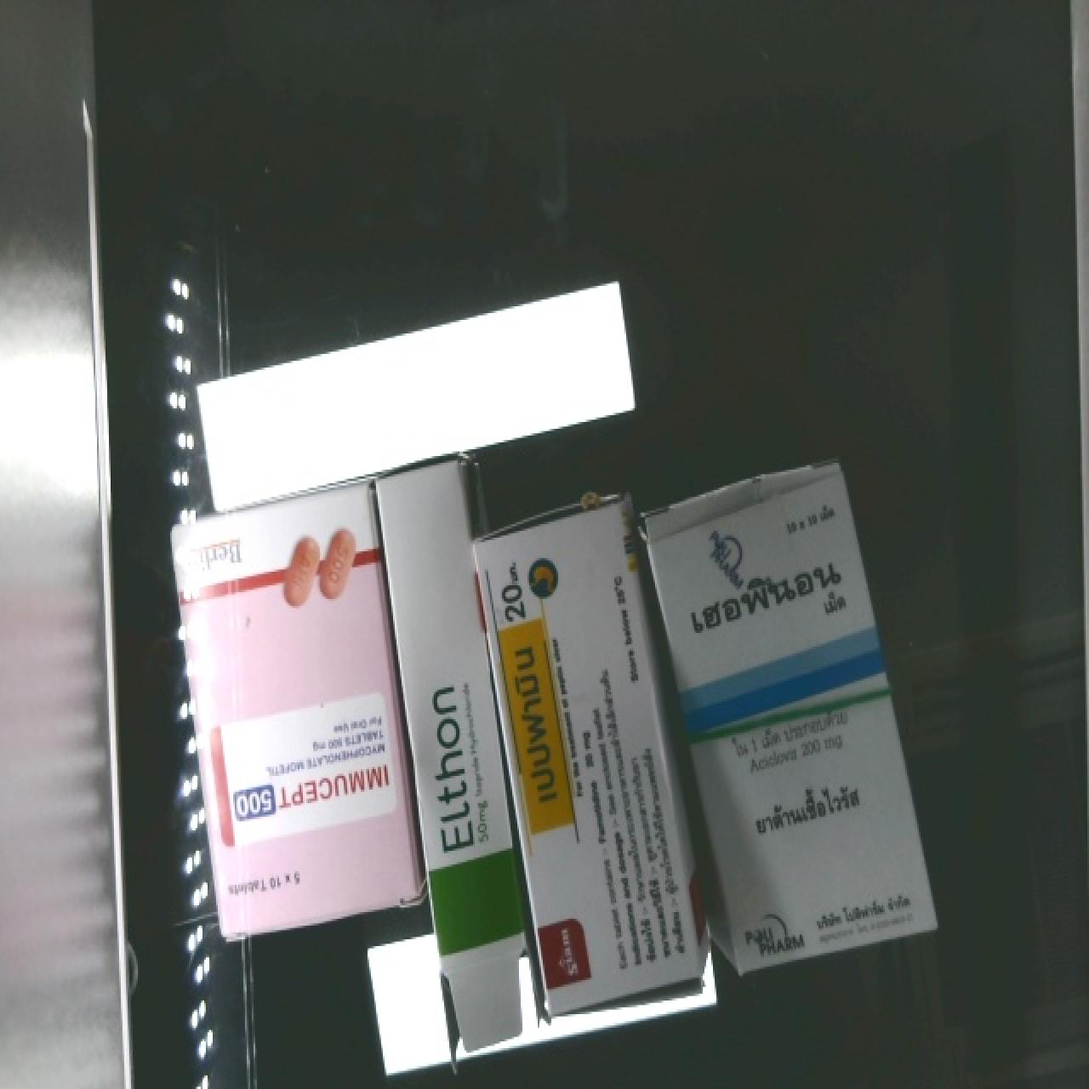medicine_label_obb: (660, 533, 869, 669), (483, 545, 577, 839), (207, 726, 412, 844), (402, 654, 496, 871)
